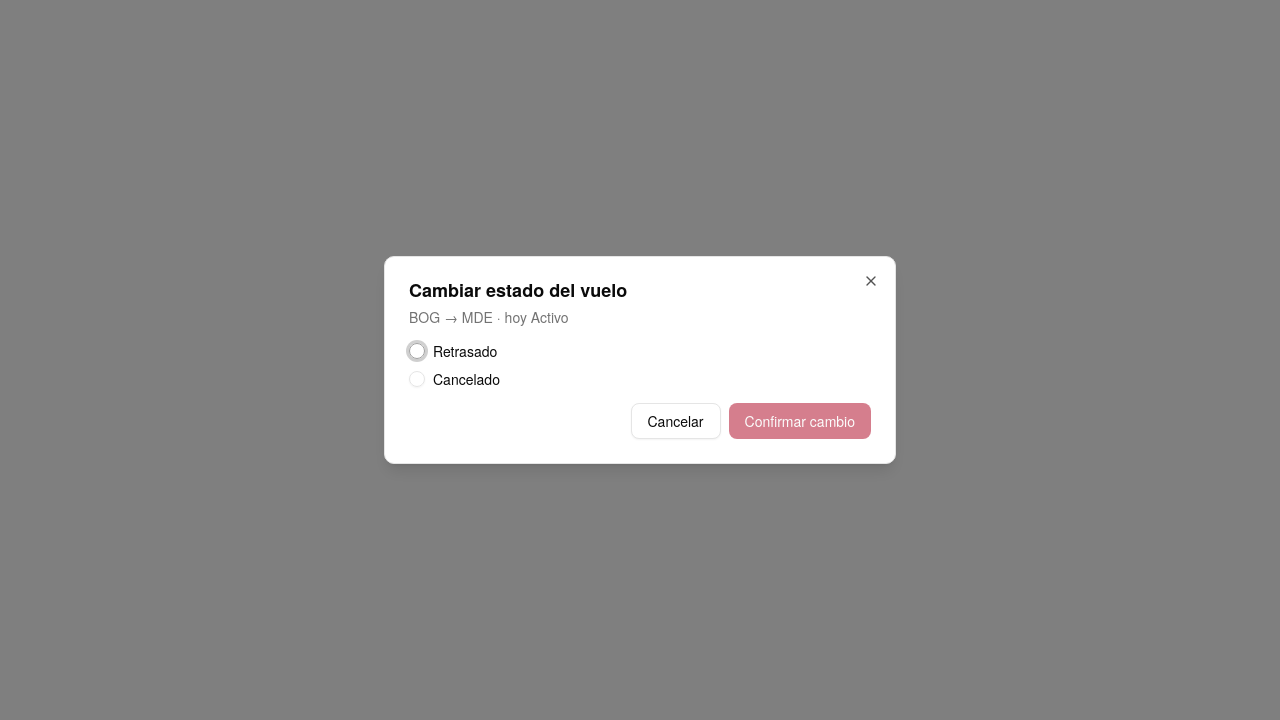
FlightStatusDialog › shows the INVALID_FLIGHT_STATUS error from the backend and stays open
Click the radio button named "Cancelado" next to "Cancelado" at (417, 379), box [409,371,425,387]
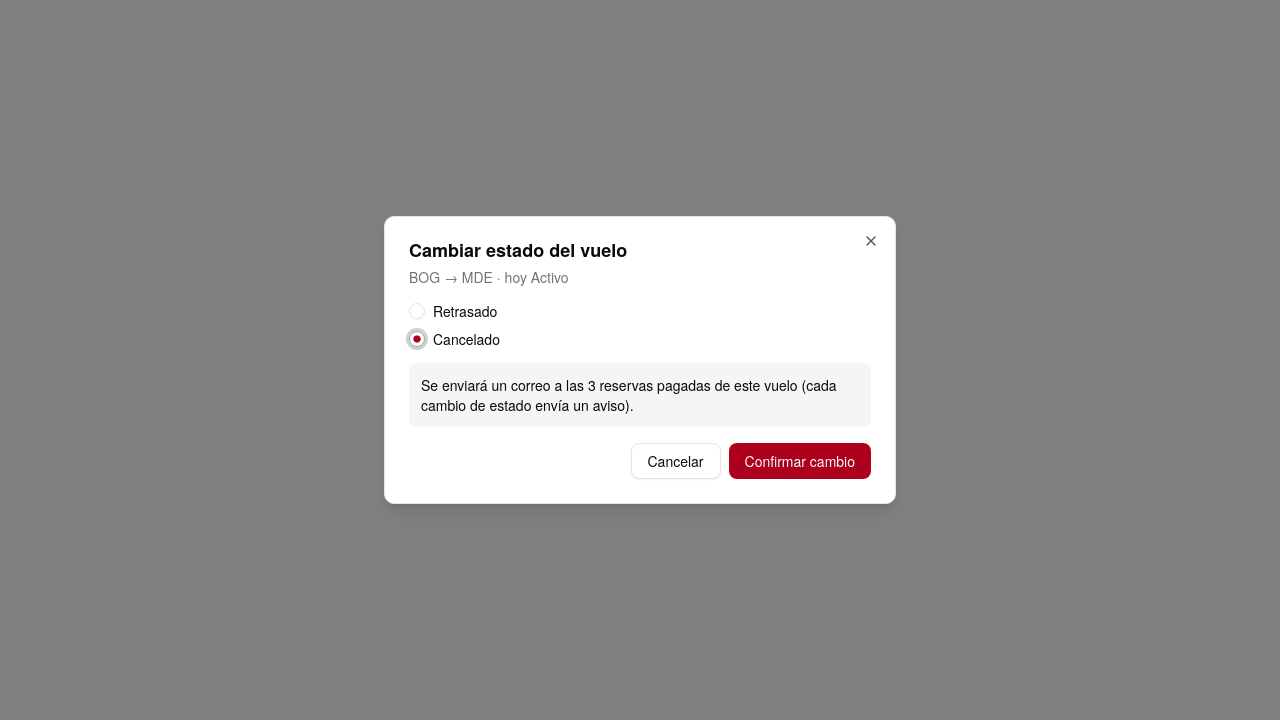
Click the button "Confirmar cambio" at (800, 461), box [728,443,871,479]
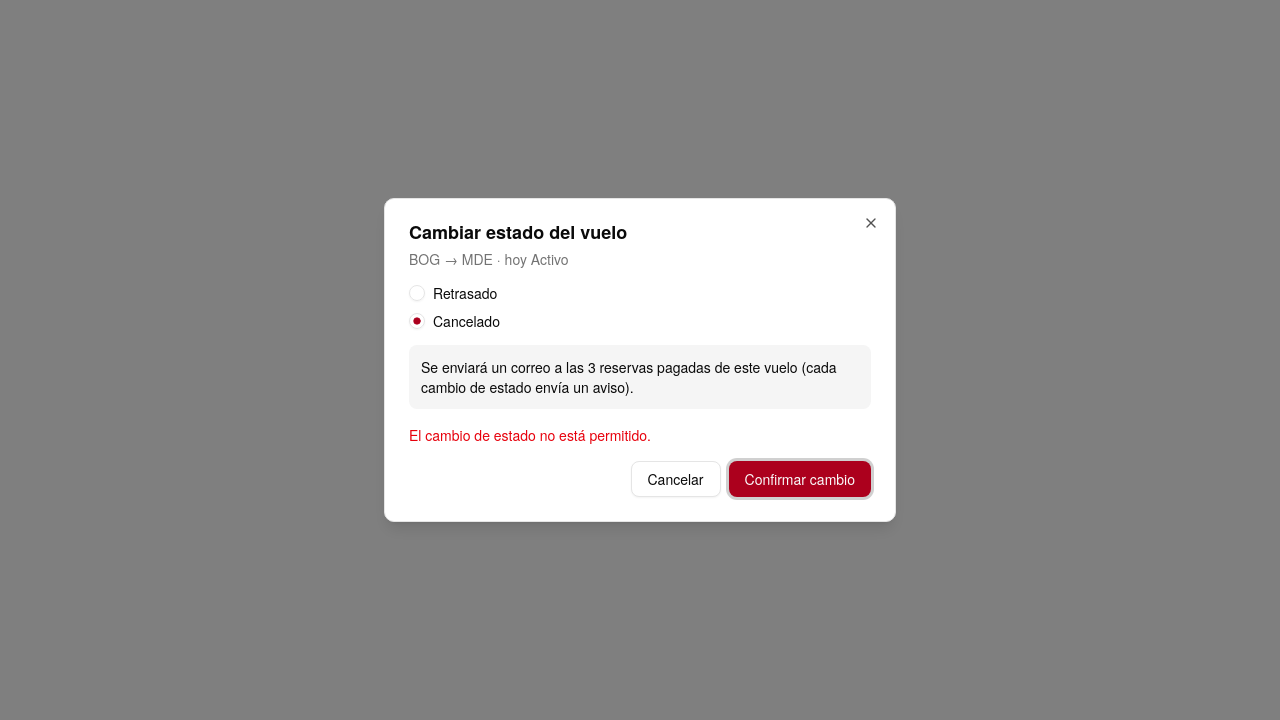
Expected: the text "El cambio de estado no está permitido." is shown, [409,425,651,445]
